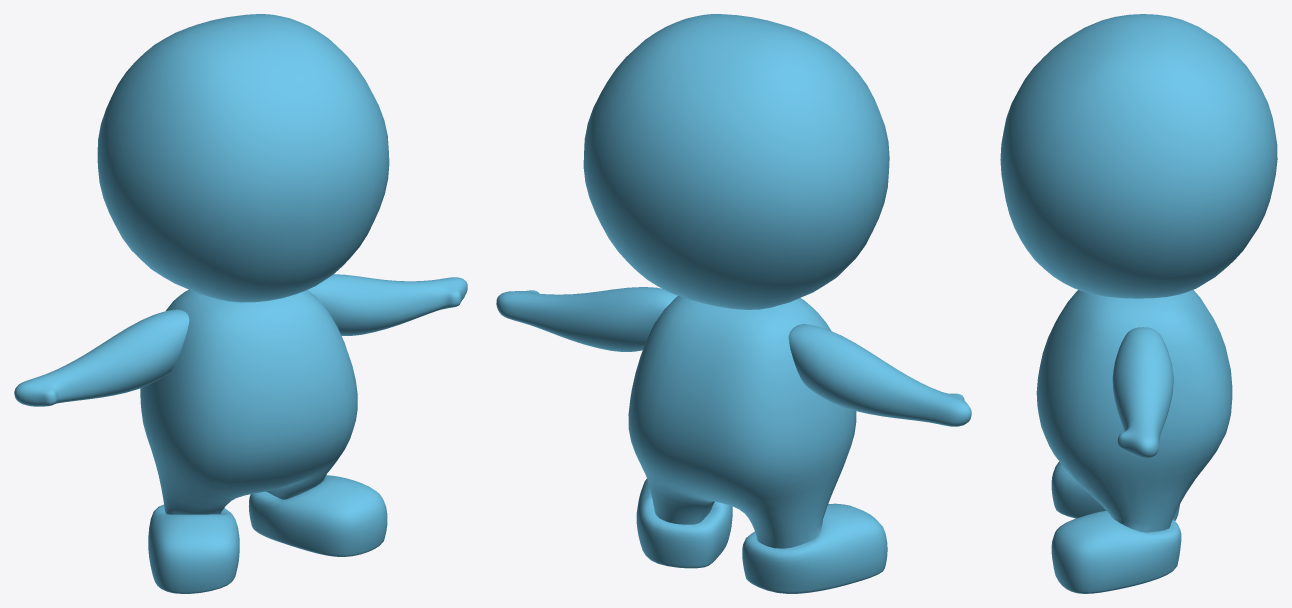
The model's file is character.fbx.
3 views of the same model, side by side, from view 1: azimuth 30°, elevation 25°; view 2: azimuth 150°, elevation 25°; view 3: azimuth 270°, elevation 25° (orthographic). The views are drawn at different scales.
Visible parts, largest first — view 1: Cube.119, Cube.120, Cube.122, Cube.121; view 2: Cube.119, Cube.120, Cube.121, Cube.122; view 3: Cube.119, Cube.120, Cube.122, Cube.121.
Boxes of the visible parts, x1,y1,x2,y2 form: Cube.119: [97, 14, 389, 302]; Cube.120: [140, 290, 357, 514]; Cube.122: [148, 475, 387, 593]; Cube.121: [14, 274, 467, 406]; Cube.119: [583, 14, 889, 309]; Cube.120: [628, 296, 856, 548]; Cube.121: [496, 287, 971, 426]; Cube.122: [636, 479, 887, 593]; Cube.119: [1000, 14, 1277, 298]; Cube.120: [1036, 290, 1232, 532]; Cube.122: [1051, 461, 1181, 593]; Cube.121: [1112, 327, 1173, 458].
Size of the model in its own units: 317 by 345 by 170.
